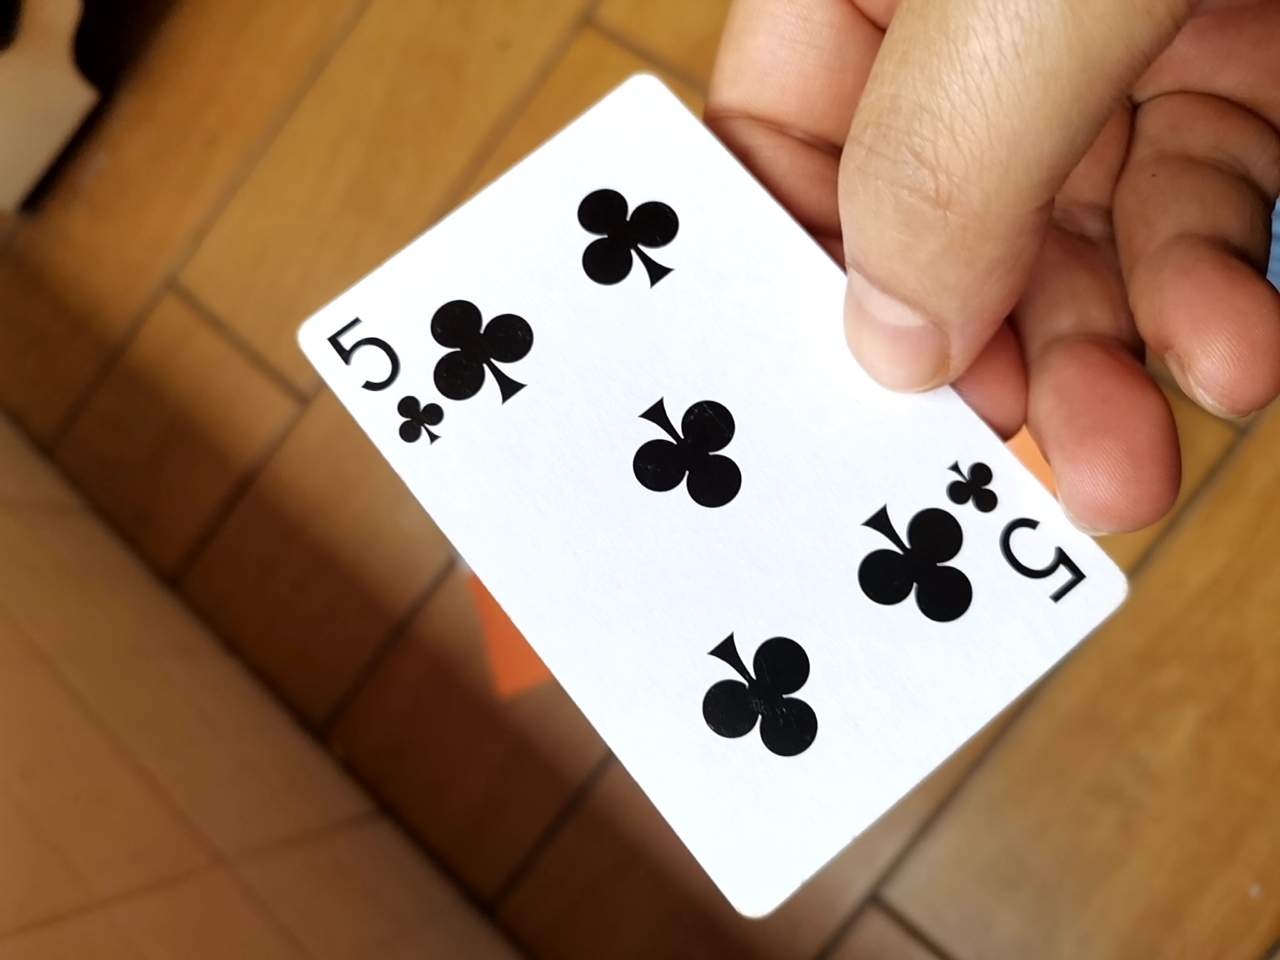mh 5: (269, 76, 1148, 923)
